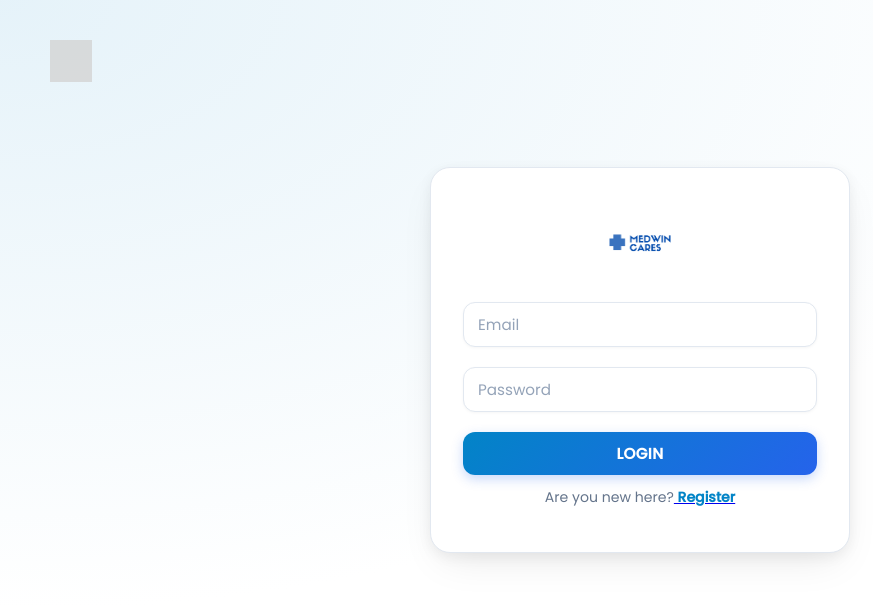
Doctor login › shows an error message on incorrect credentials
Type "does-not-exist@example.com" into the field with placeholder "Email".
click(640, 325); type("does-not-exist@example.com")  # box [463,302,817,347]
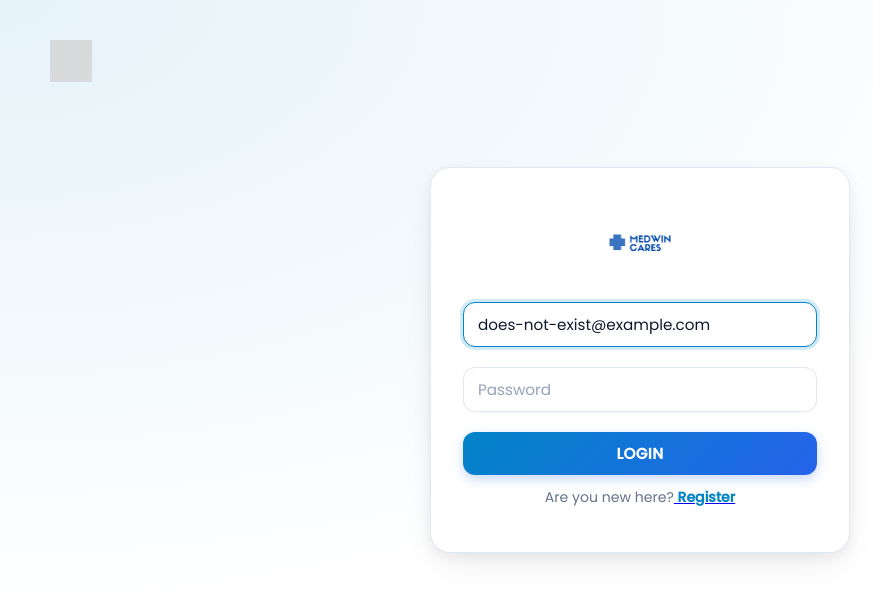
Type "wrong-password" into the password field with placeholder "Password".
click(640, 390); type("wrong-password")  # box [463,367,817,412]
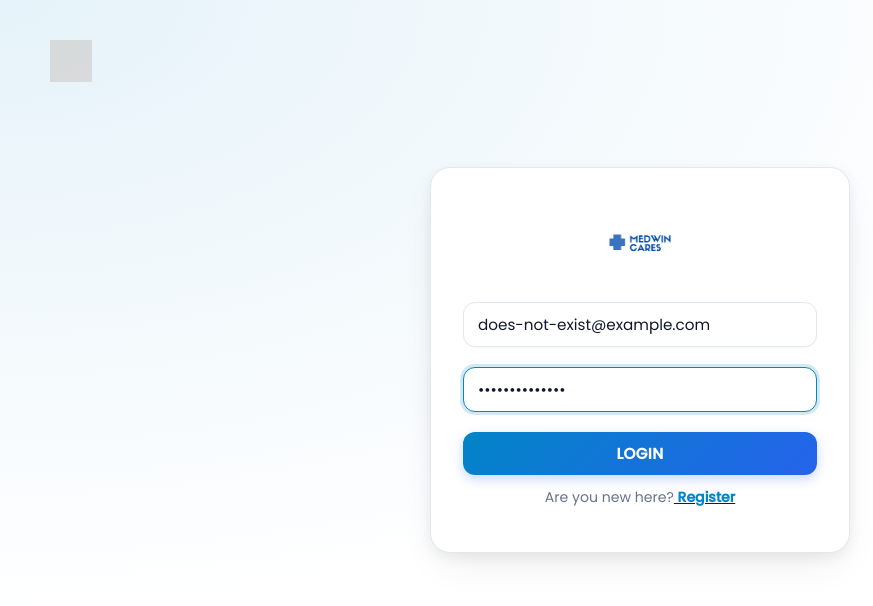
Click the button "LOGIN".
click(640, 454)  # box [463,432,817,475]
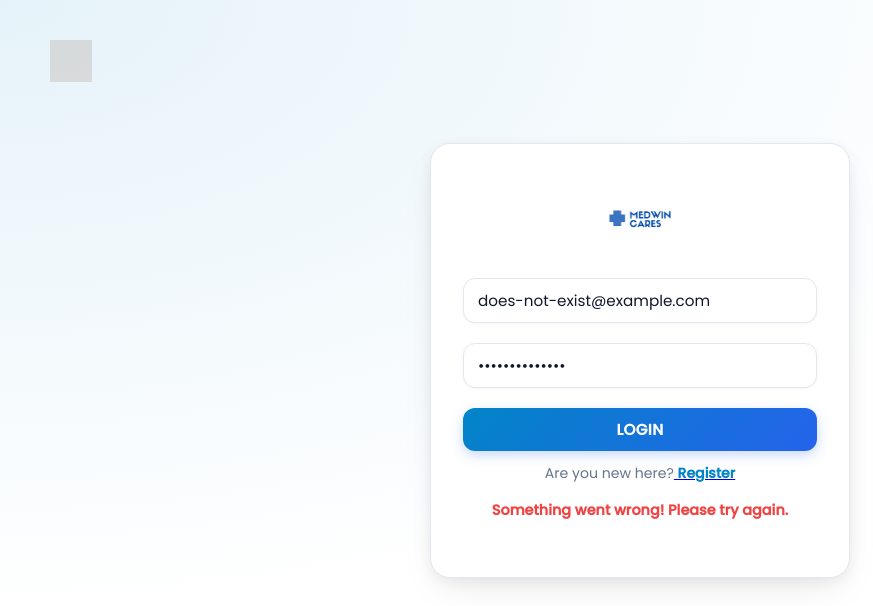
Result: the text "Something went wrong! Please try again." is shown at [492,500,788,520]
